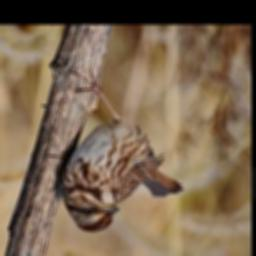Sparrow: (57, 68, 186, 235)
